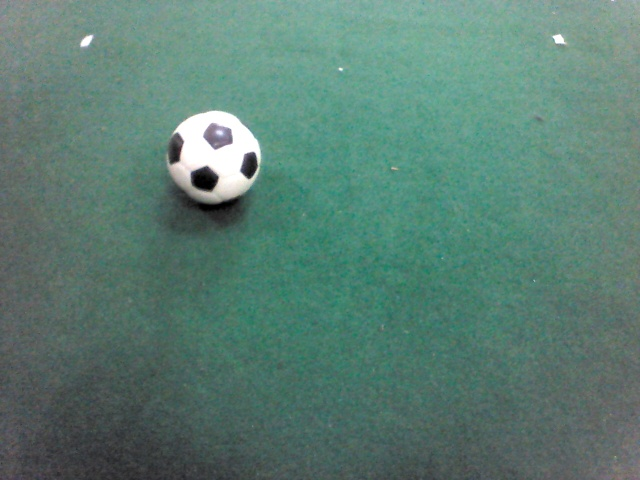ball: (162, 108, 264, 209)
